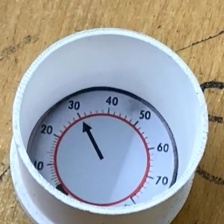gauge: (28, 86, 180, 206)
